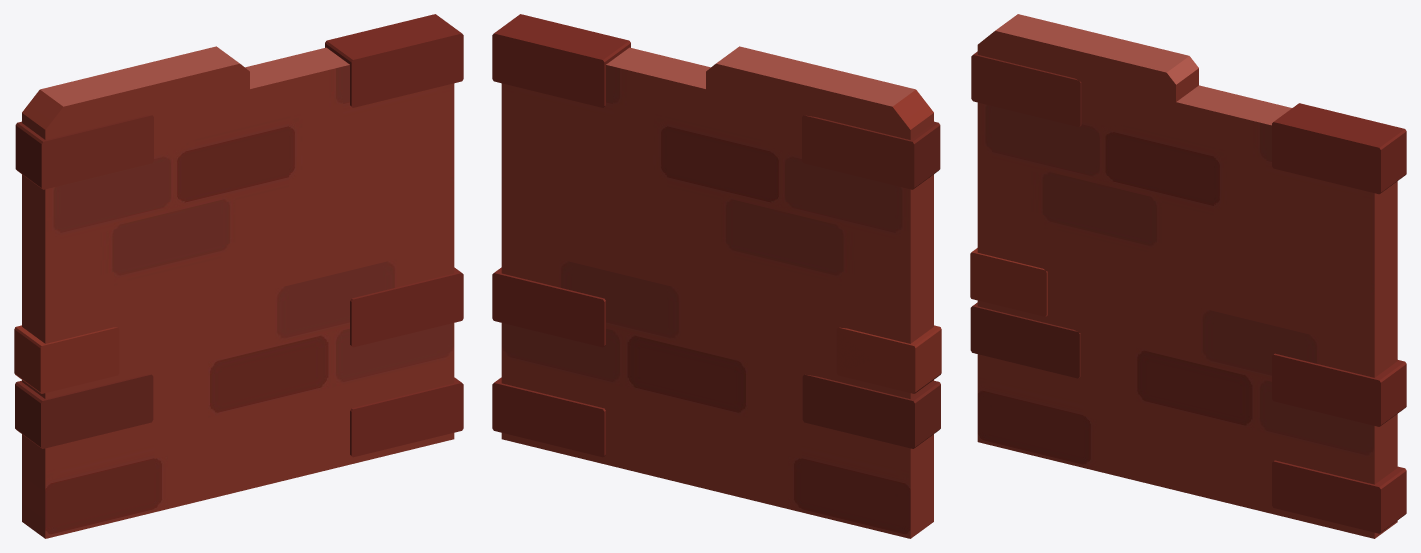
The model's file is SM_BrickWall_02.fbx.
The picture shows the model from 3 angles, left to right: view 1: azimuth 30°, elevation 25°; view 2: azimuth 150°, elevation 25°; view 3: azimuth 330°, elevation 25°; orthographic projection. The views are drawn at different scales.
Parts seen in each view (by area): view 1: SM_BrickWall_02; view 2: SM_BrickWall_02; view 3: SM_BrickWall_02.
Boxes of the visible parts, left/top/right/bottom form: SM_BrickWall_02: left=14, top=14, right=463, bottom=538; SM_BrickWall_02: left=492, top=14, right=941, bottom=538; SM_BrickWall_02: left=970, top=14, right=1406, bottom=538.
Size of the model in its own units: 1.03 by 1 by 0.1126.
